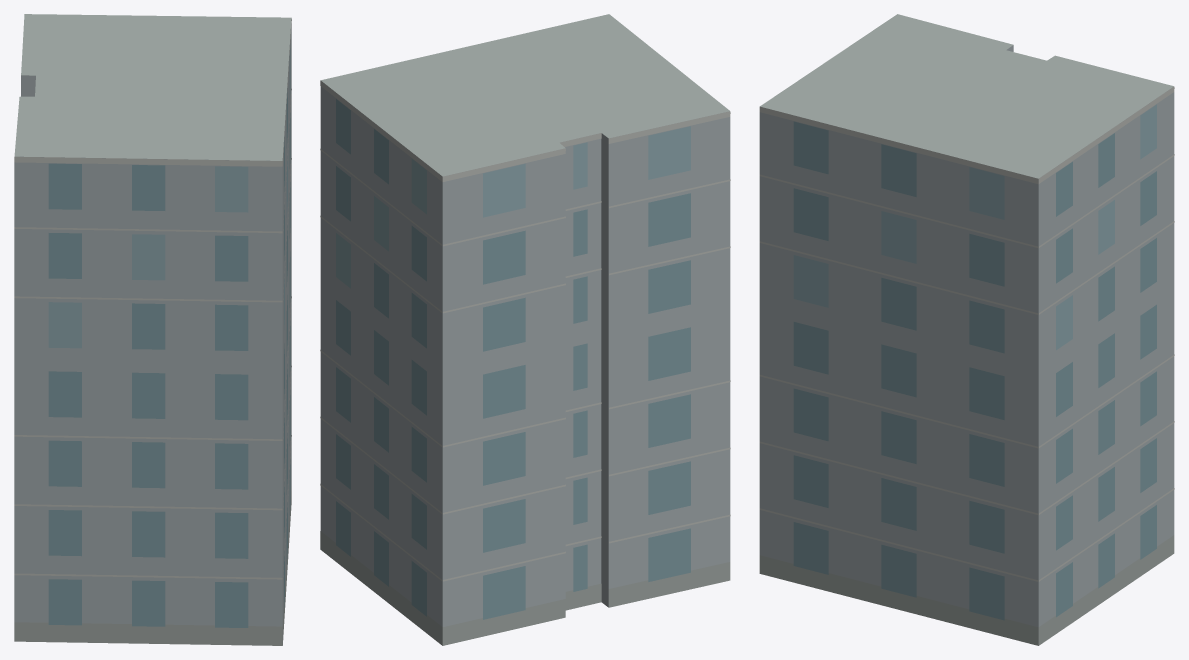
File: survey-upis-32788471.glb
3 views of the same model, side by side, from view 1: azimuth 30°, elevation 25°; view 2: azimuth 150°, elevation 25°; view 3: azimuth 270°, elevation 25° (orthographic). The views are drawn at different scales.
Visible parts, largest first — view 1: survey-upis-32788471.tmp; view 2: survey-upis-32788471.tmp; view 3: survey-upis-32788471.tmp.
Boxes of the visible parts, x1,y1,x2,y2 form: survey-upis-32788471.tmp: (14, 14, 291, 645); survey-upis-32788471.tmp: (320, 14, 730, 645); survey-upis-32788471.tmp: (759, 14, 1174, 645).
Bounding box in the file's own units: 15.37 × 20.3 × 16.35.
